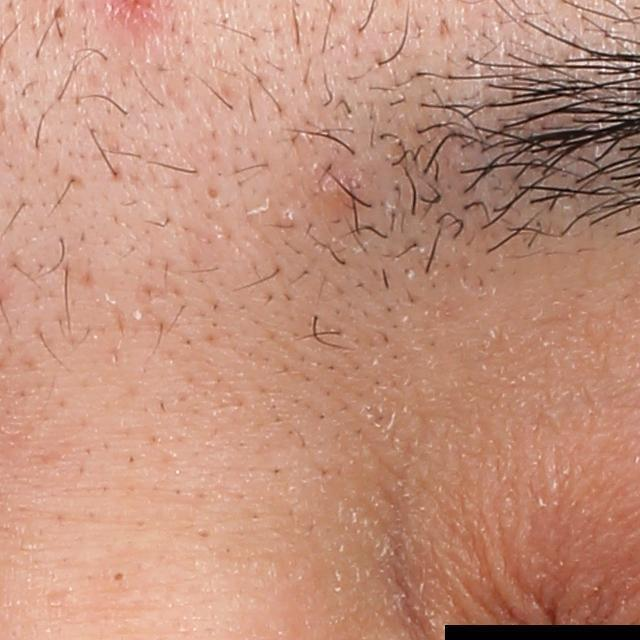comedo: (204, 180, 224, 203), (112, 566, 130, 584)
papule: (323, 166, 363, 207)
